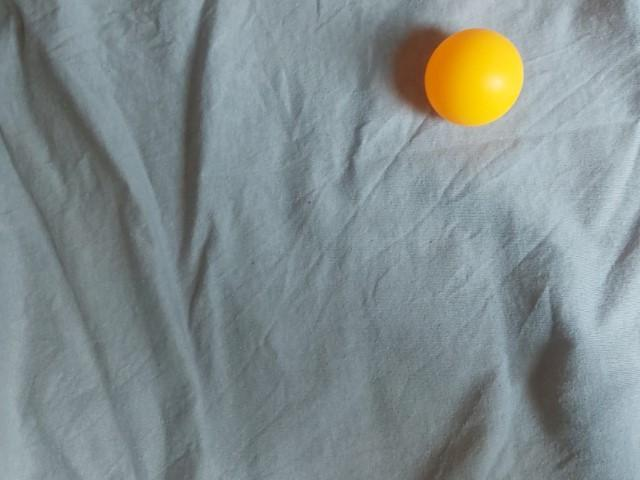oball: (107, 347, 224, 462)
